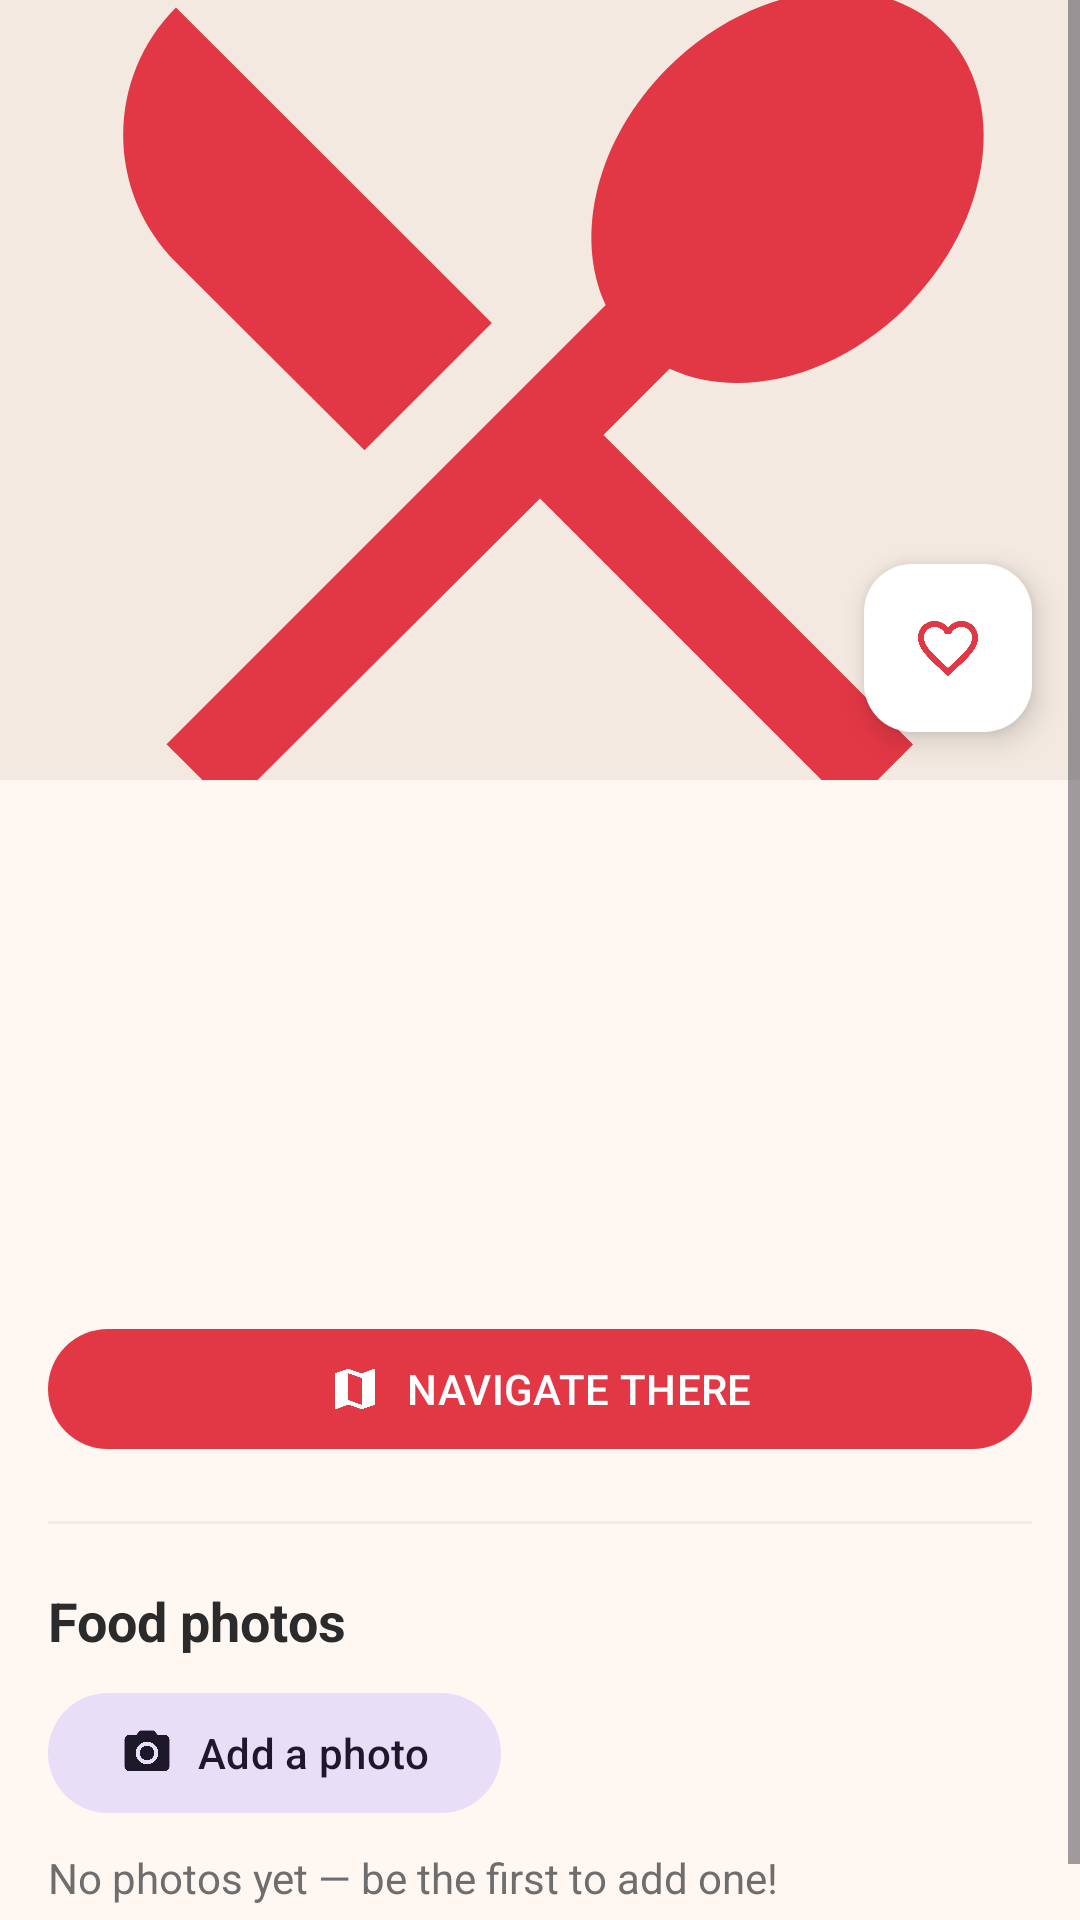

Named icons in this screenshot (1080×1920) and their centers, (x=x, y=y):
Save to favourites: (x=948, y=648)
